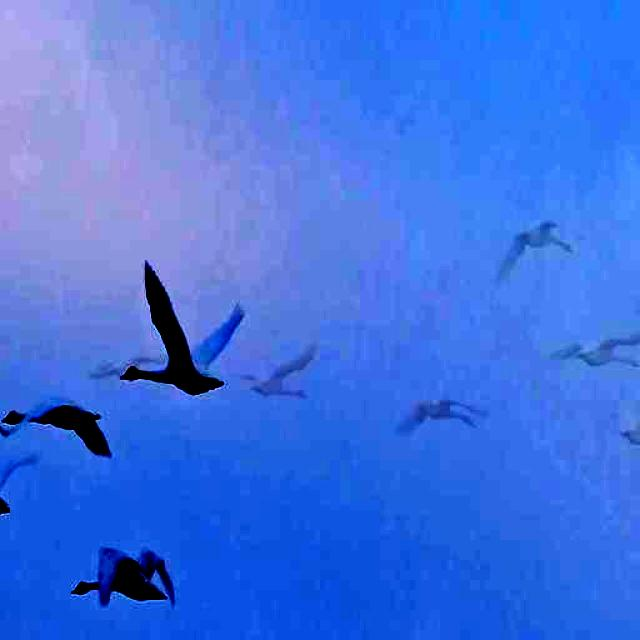airplane: (111, 246, 255, 408), (0, 371, 124, 478), (52, 525, 184, 622)
